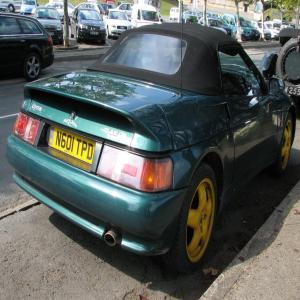Vehicle-registration-plate: (46, 122, 97, 171), (286, 87, 300, 100)
